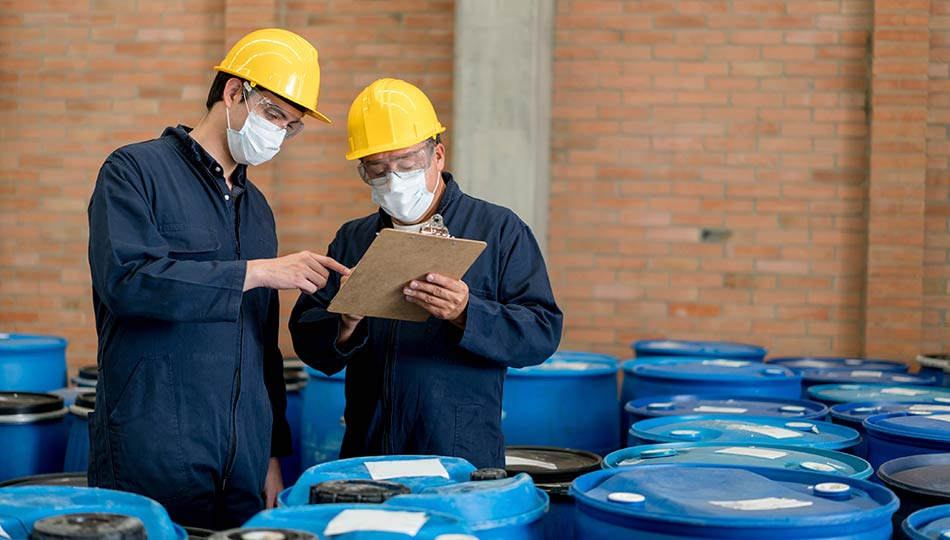epi: (313, 69, 576, 489), (91, 27, 329, 489)
